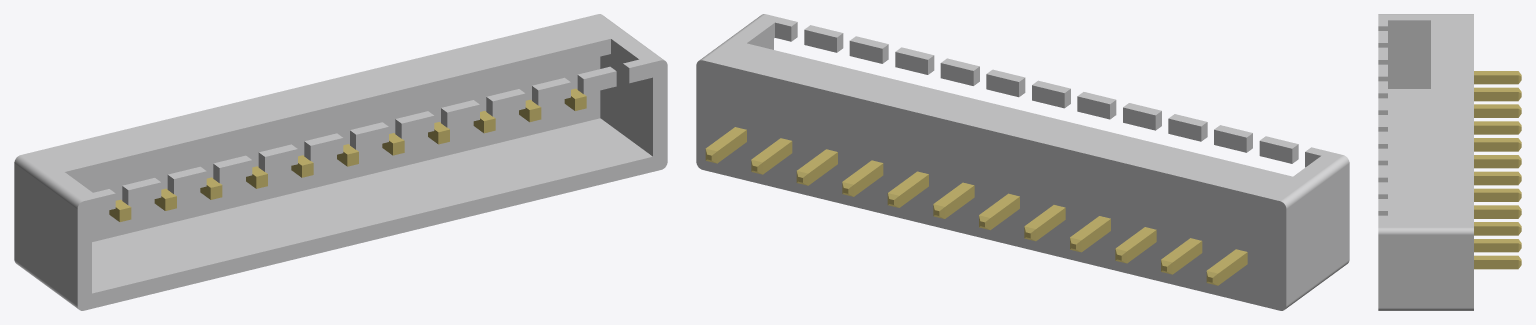
File: jst_xh_12pin.glb
The picture shows the model from 3 angles, left to right: view 1: azimuth 30°, elevation 25°; view 2: azimuth 150°, elevation 25°; view 3: azimuth 270°, elevation 25°; orthographic projection. The views are drawn at different scales.
Visible parts, largest first — view 1: world; view 2: world; view 3: world.
Part boxes in pixels (x1,y1,x2,y2): world: (14,14,667,310); world: (696,14,1349,310); world: (1378,14,1521,310).
Bounding box in the file's own units: 32.4 × 5.75 × 9.
